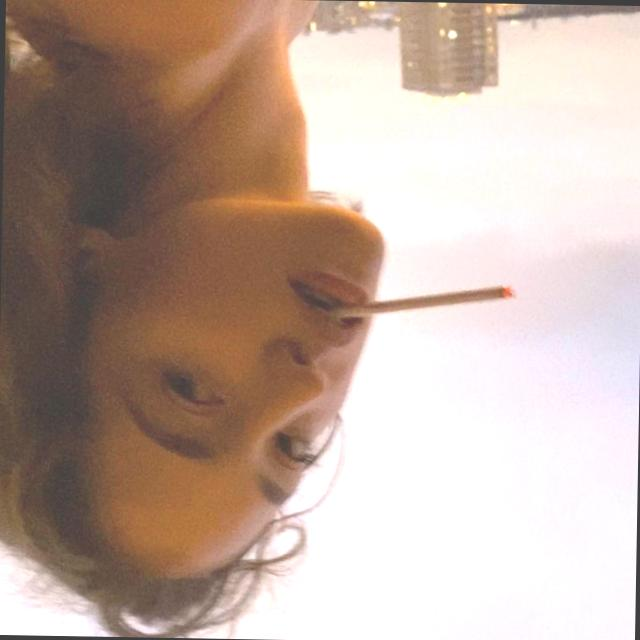smoke: (320, 278, 527, 318)
